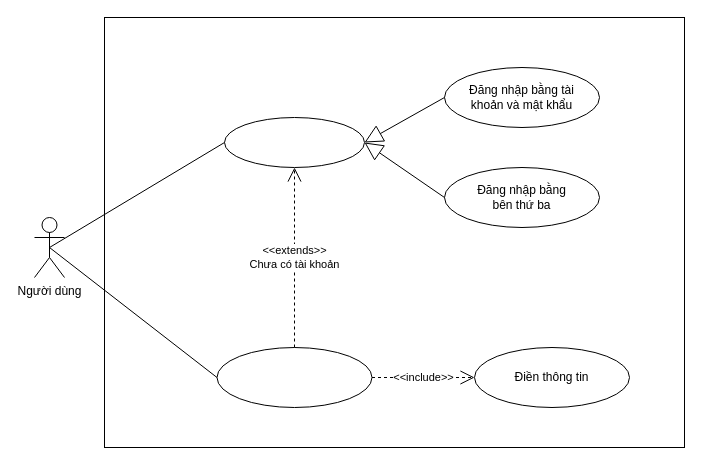
The diagram is 702 pixels wide and 465 high, and some of its shapes have lost their labels. The box of each missing label's shape, as (x1, y1, x2, y2) in pixels:
Đăng ký tài khoản mới: (216, 346, 372, 408)
Đăng nhập: (224, 116, 364, 168)
